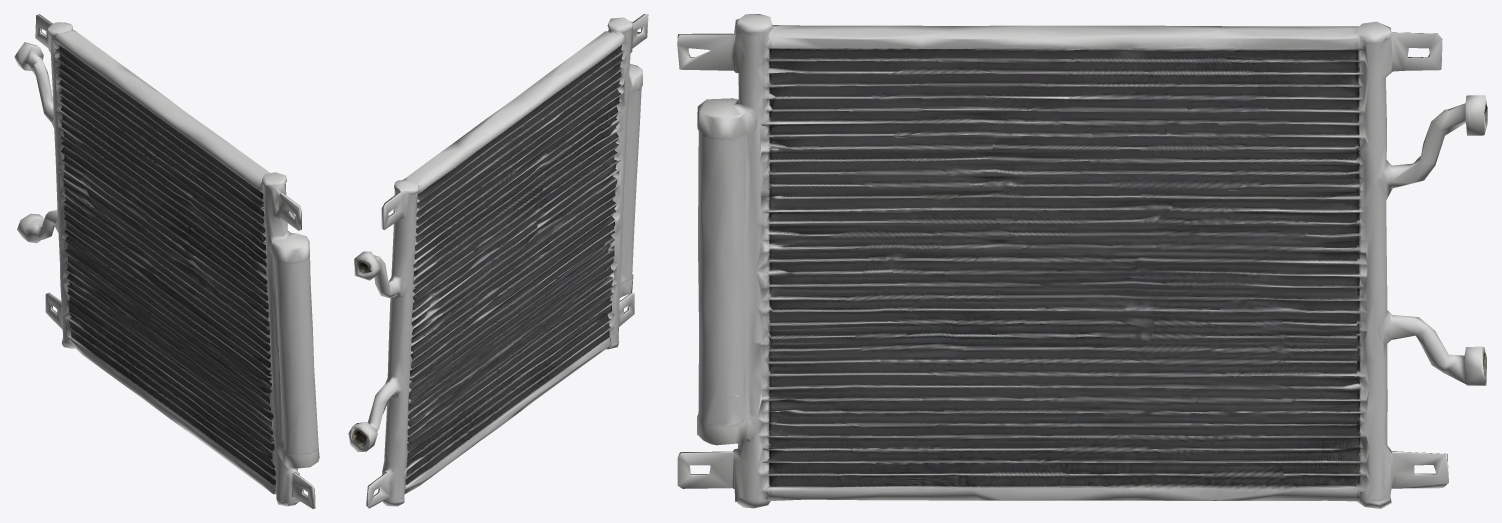
The model's file is a-c-condenser-piping.glb.
3 renders of one model, left to right at view 1: azimuth 30°, elevation 25°; view 2: azimuth 150°, elevation 25°; view 3: azimuth 270°, elevation 25°, orthographic. The views are drawn at different scales.
Parts seen in each view (by area): view 1: tripo_node_fbd09cc1-2e3c-42dc-95ee-36004a3aa9af; view 2: tripo_node_fbd09cc1-2e3c-42dc-95ee-36004a3aa9af; view 3: tripo_node_fbd09cc1-2e3c-42dc-95ee-36004a3aa9af.
Part boxes in pixels (x1=…): tripo_node_fbd09cc1-2e3c-42dc-95ee-36004a3aa9af: x1=14, y1=14, x2=319, y2=508; tripo_node_fbd09cc1-2e3c-42dc-95ee-36004a3aa9af: x1=348, y1=14, x2=648, y2=508; tripo_node_fbd09cc1-2e3c-42dc-95ee-36004a3aa9af: x1=677, y1=14, x2=1487, y2=508.
Size of the model in its own units: 0.0897 by 0.6458 by 1.
1 material, 1 textured.
